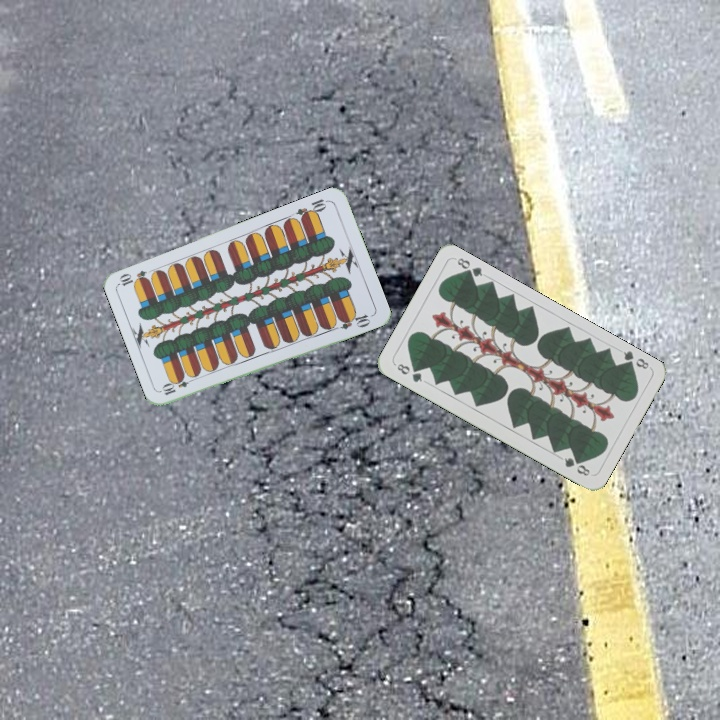E10: (292, 195, 331, 223), (158, 373, 198, 398)
G8: (391, 359, 425, 385), (619, 347, 651, 372)
